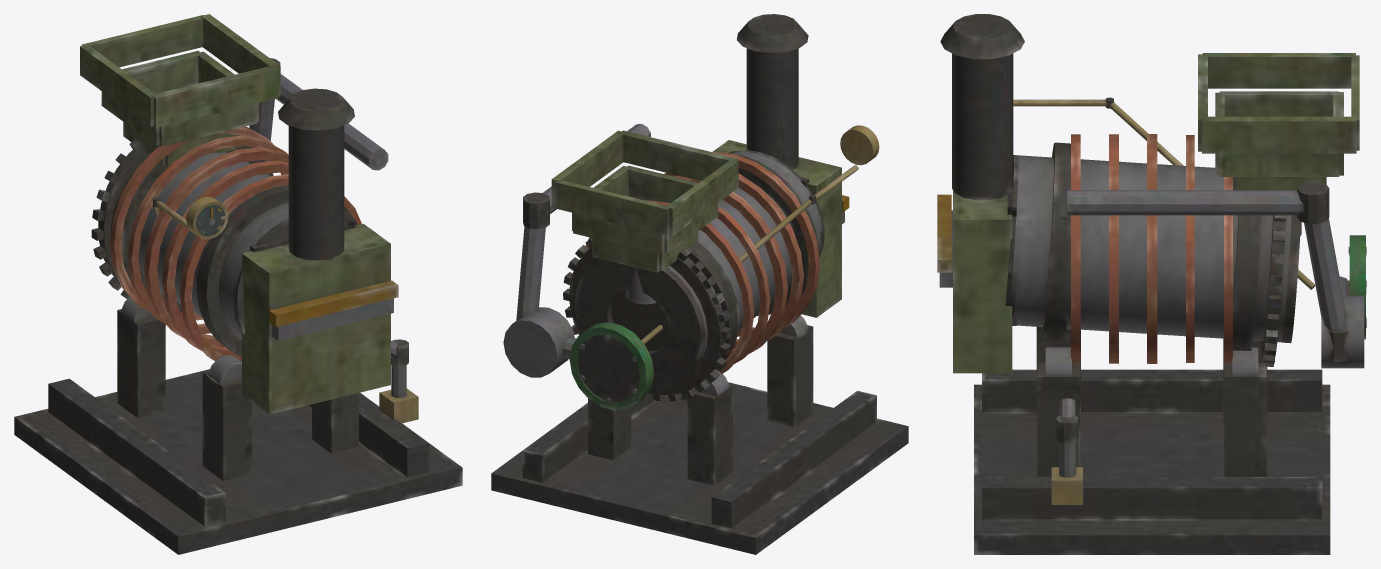
Rendered from feSteamDryer.glb.
3 views of the same model, side by side, from view 1: azimuth 30°, elevation 25°; view 2: azimuth 150°, elevation 25°; view 3: azimuth 270°, elevation 25° (orthographic). The views are drawn at different scales.
Visible parts, largest first — view 1: feSteamDryer_Base, FeWorkSpin_x0.4_Drum; view 2: feSteamDryer_Base, FeWorkSpin_x0.4_Drum; view 3: feSteamDryer_Base, FeWorkSpin_x0.4_Drum.
Boxes of the visible parts, x1,y1,x2,y2 form: feSteamDryer_Base: (14,14,462,554); FeWorkSpin_x0.4_Drum: (91,135,357,356); feSteamDryer_Base: (491,14,908,554); FeWorkSpin_x0.4_Drum: (563,150,824,401); feSteamDryer_Base: (937,14,1366,554); FeWorkSpin_x0.4_Drum: (1005,142,1300,366).
Size of the model in its own units: 0.8412 by 1.18 by 1.01.
1 material, 1 textured.
